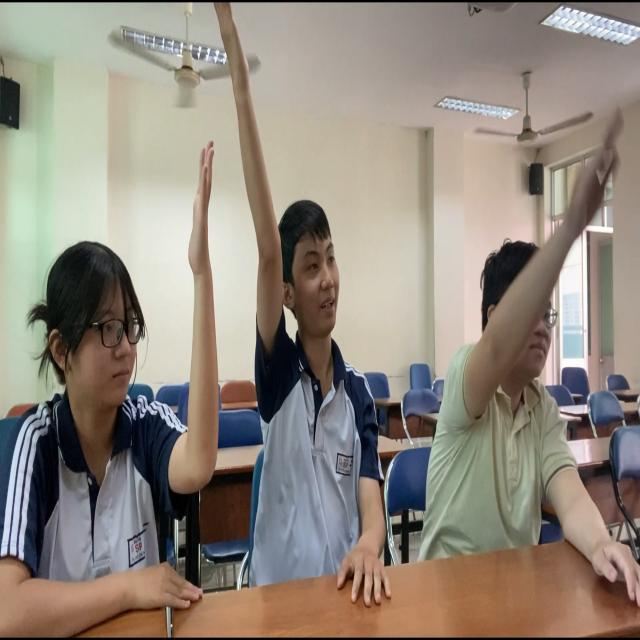raise_hand: (216, 2, 394, 638), (2, 134, 213, 639), (431, 109, 640, 608)
